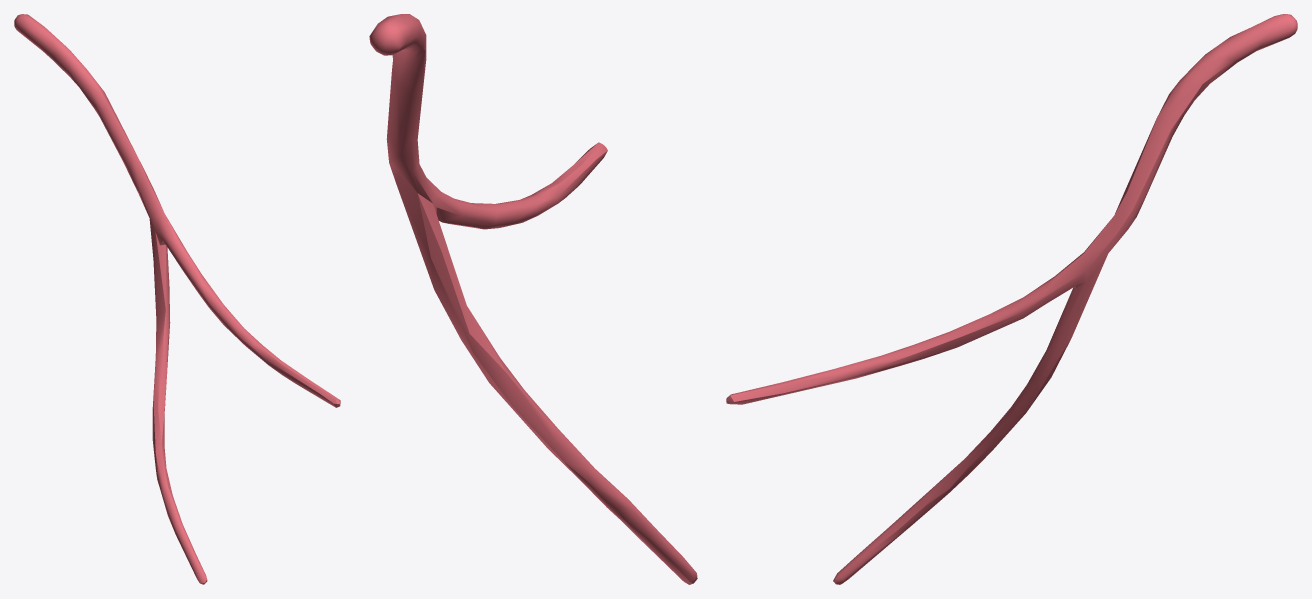
The model's file is fma50911_fj5083.glb.
The picture shows the model from 3 angles, left to right: view 1: azimuth 30°, elevation 25°; view 2: azimuth 150°, elevation 25°; view 3: azimuth 270°, elevation 25°; orthographic projection. The views are drawn at different scales.
Visible parts, largest first — view 1: FMA50911_FJ5083; view 2: FMA50911_FJ5083; view 3: FMA50911_FJ5083.
Boxes of the visible parts, x1,y1,x2,y2 form: FMA50911_FJ5083: (14,14,340,584); FMA50911_FJ5083: (369,14,697,584); FMA50911_FJ5083: (726,14,1297,584).
Size of the model in its own units: 0.0048 by 0.0185 by 0.0169.
